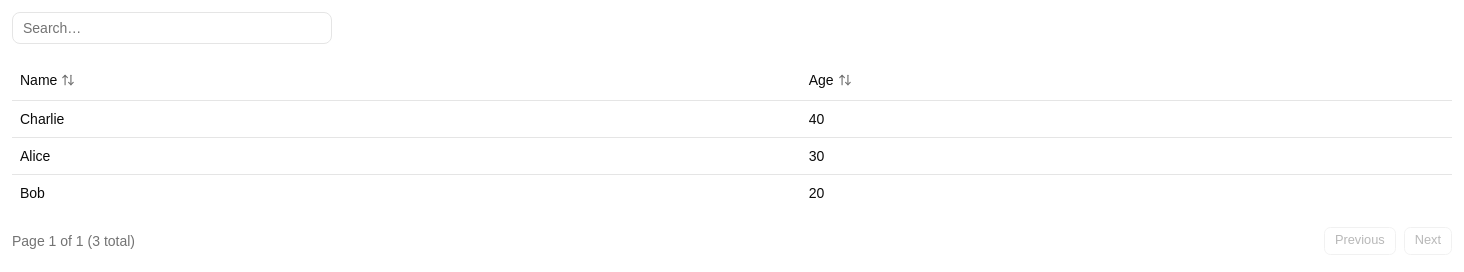
DataTable › filters rows via searchPredicate
Step 1. Type "ali" into the field with placeholder "Search…" → (172, 28), box top-left (12, 12), bottom-right (332, 44)
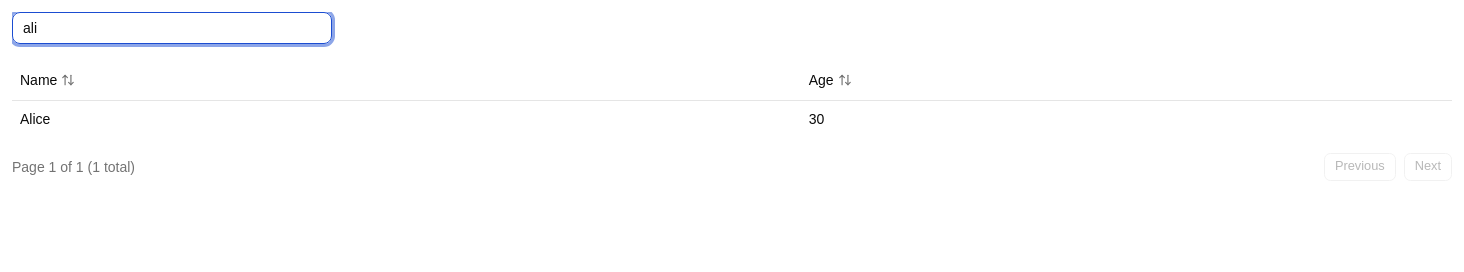
Expected: the text "Alice" is shown, top-left (12, 100), bottom-right (801, 136)
Now the text "Bob" is gone
Now the text "Charlie" is gone
